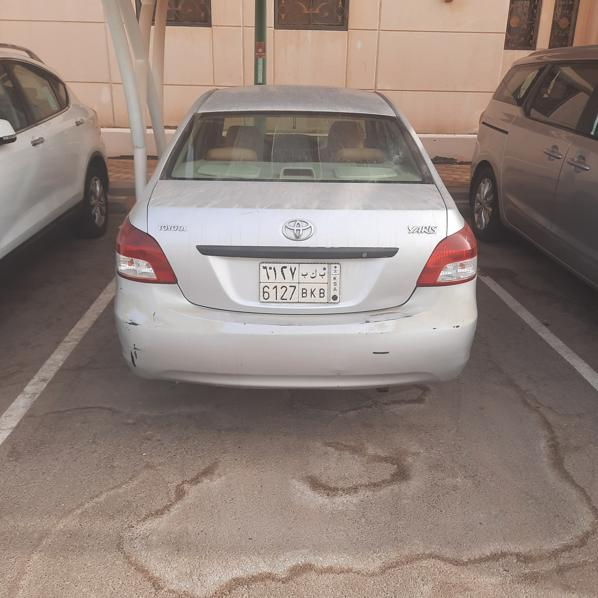numberplate: (258, 262, 341, 303)
